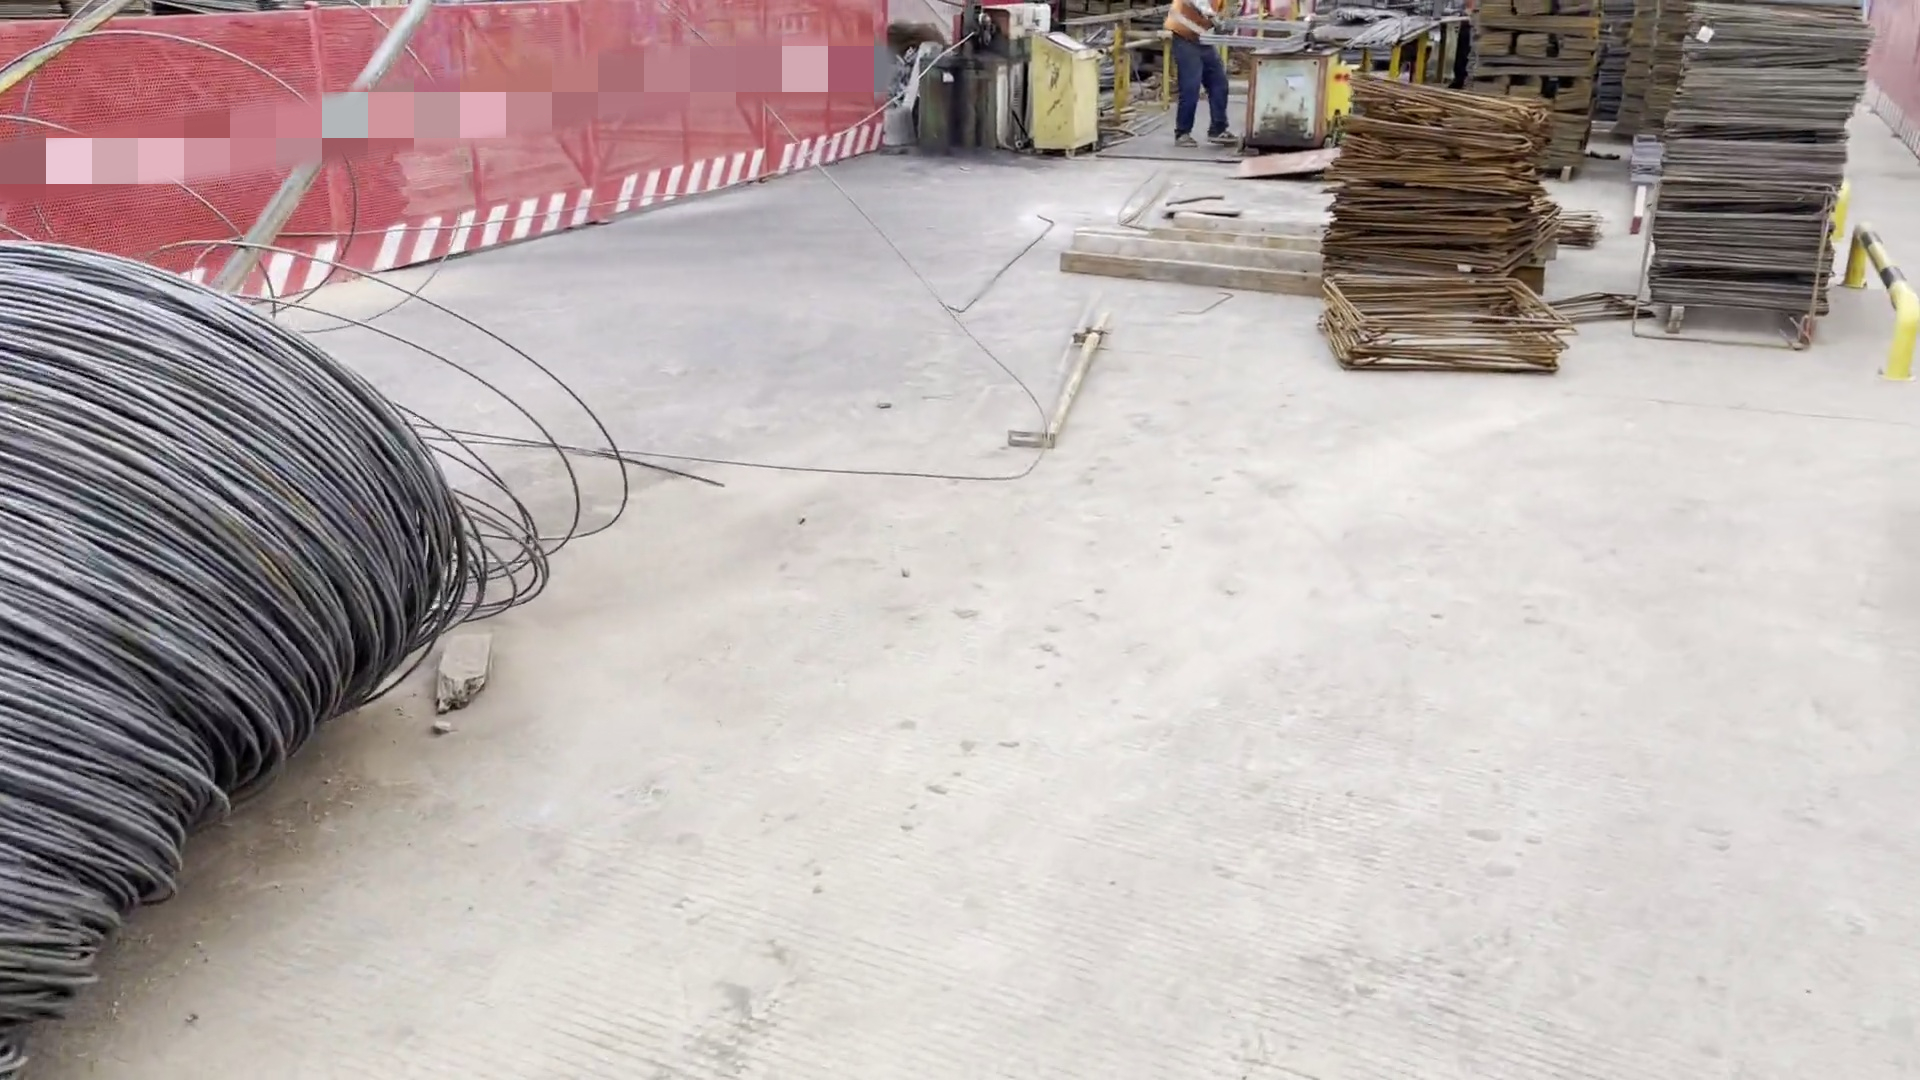cutter: (1231, 31, 1353, 155)
ebox: (1017, 30, 1106, 161)
fence: (1, 1, 894, 300), (1871, 5, 1920, 143)
person: (1155, 4, 1258, 157)
vest: (1155, 1, 1251, 49)
